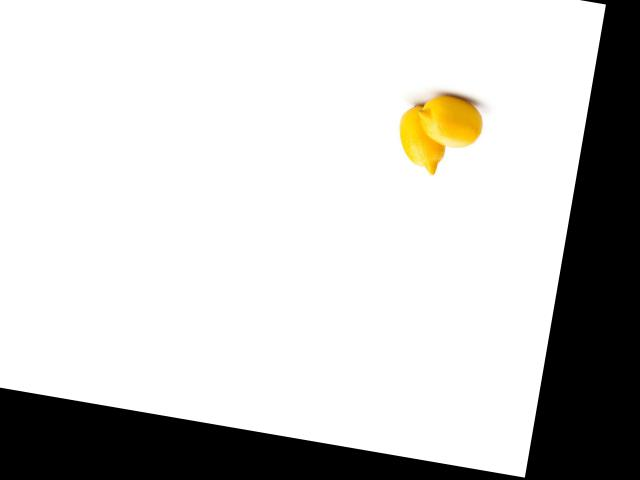lemon: (406, 95, 489, 153)
